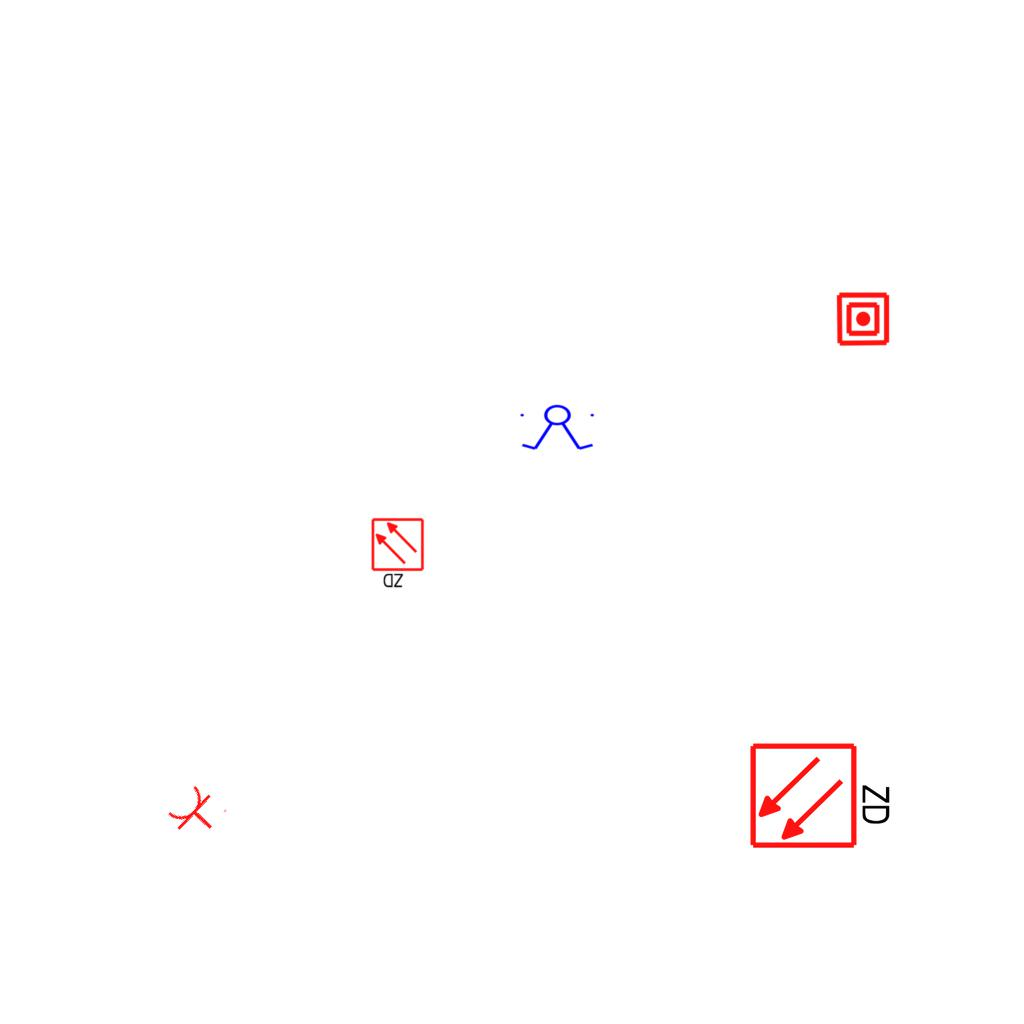NAM-Nichtautomatischer_Melder: (835, 291, 891, 347)
Schukosteckdose_einfach: (163, 780, 230, 846)
Serienschalter: (516, 404, 600, 452)
ZD_Melder_in_Zwischendecke_mit_Revisionsoeffnung_mind_40_x_40_cm: (748, 737, 897, 851), (370, 517, 427, 591)
